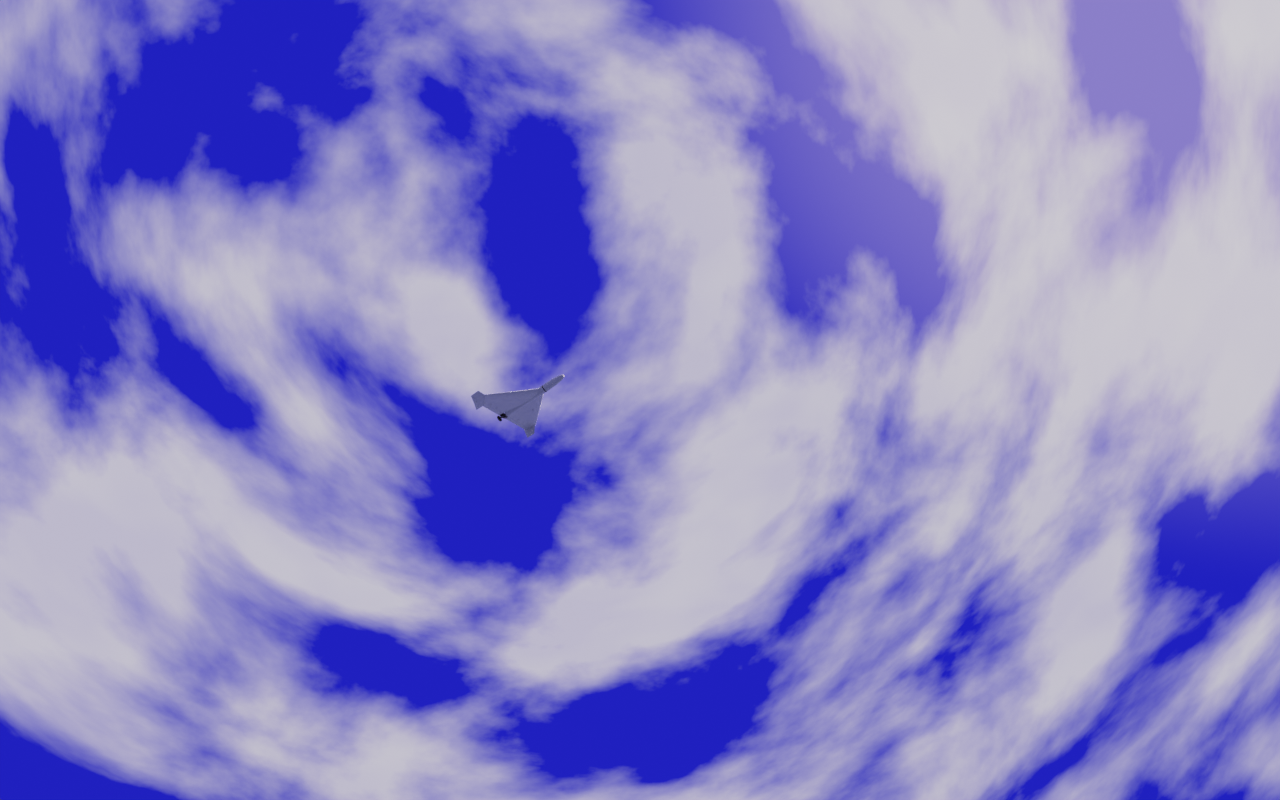shahed: (471, 375, 566, 440)
